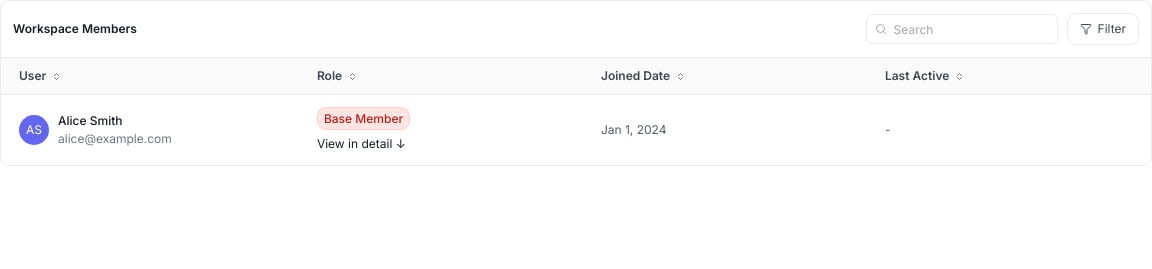
Scenario: MembersTable › Role Filter › shows empty state when no members match role filter
Click the button "Filter" at (1103,29), box x1=1067 y1=13 x2=1139 y2=45
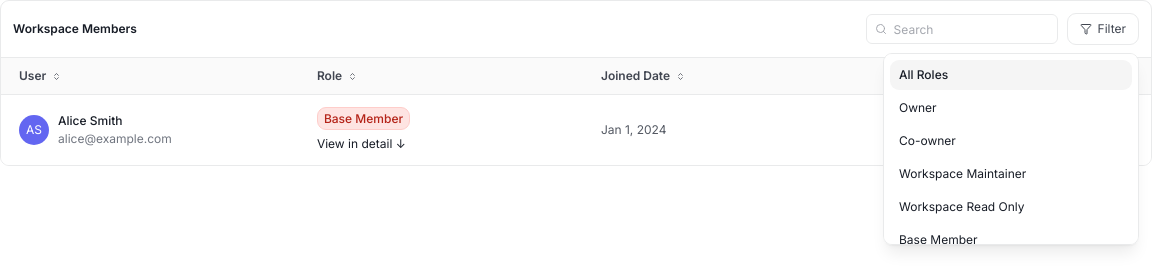
Click the button "Owner" at (1011,108), box x1=890 y1=93 x2=1132 y2=123
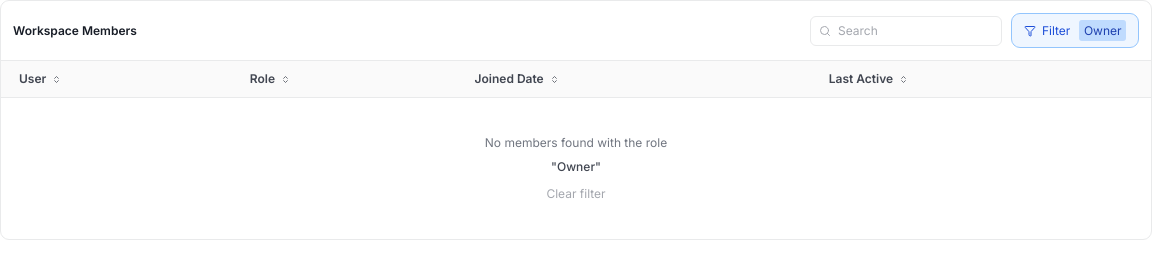
Now the text "No members found with the role" is shown, box x1=485 y1=134 x2=667 y2=152
Now the text "\"Owner\"" is shown, box x1=551 y1=158 x2=601 y2=176
